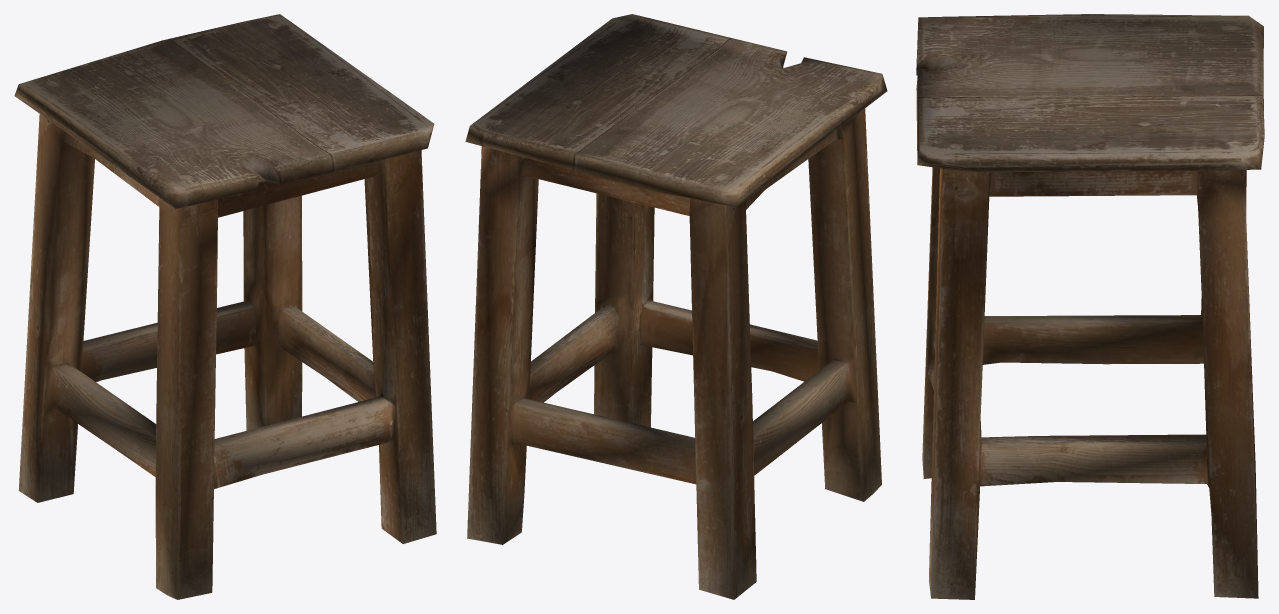
File: Stool.glb
3 views of the same model, side by side, from view 1: azimuth 30°, elevation 25°; view 2: azimuth 150°, elevation 25°; view 3: azimuth 270°, elevation 25° (orthographic). The views are drawn at different scales.
Parts seen in each view (by area): view 1: ucspai0fa_LOD0_TIER3_000_MatID_1_0; view 2: ucspai0fa_LOD0_TIER3_000_MatID_1_0; view 3: ucspai0fa_LOD0_TIER3_000_MatID_1_0.
Part boxes in pixels (x1,y1,x2,y2): ucspai0fa_LOD0_TIER3_000_MatID_1_0: [14, 14, 436, 599]; ucspai0fa_LOD0_TIER3_000_MatID_1_0: [465, 14, 887, 599]; ucspai0fa_LOD0_TIER3_000_MatID_1_0: [916, 14, 1264, 599].
Bounding box in the file's own units: 0.3063 × 0.4427 × 0.3138.
Materials: 1 (1 with a texture image).
